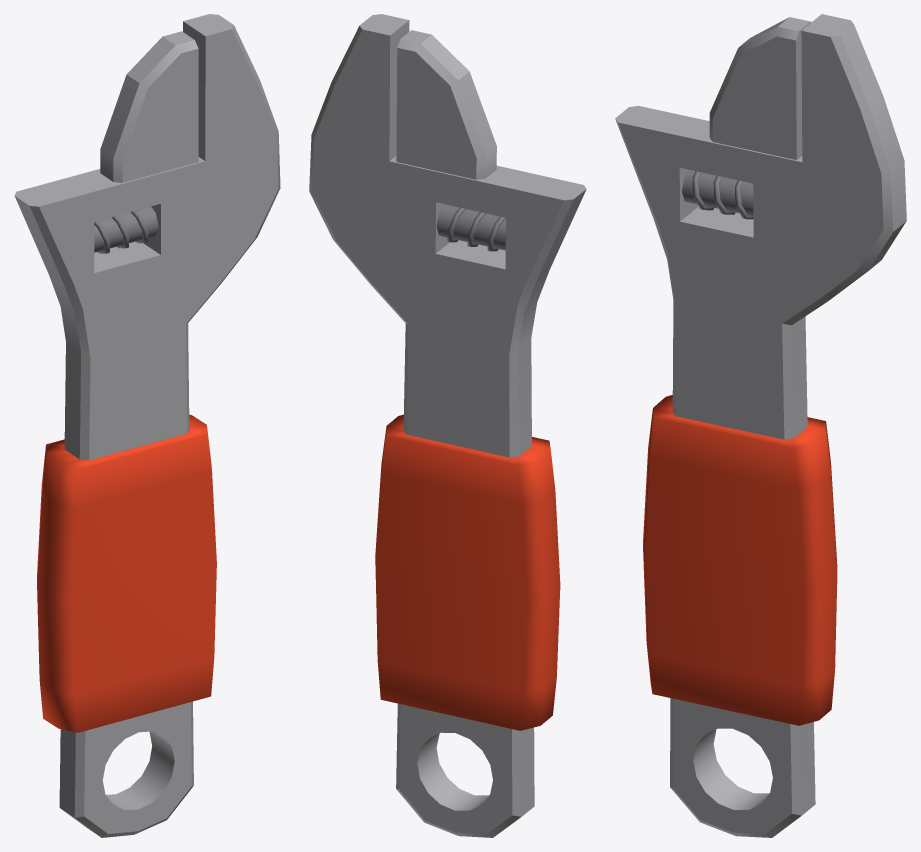
File: Wrench_02.fbx
The picture shows the model from 3 angles, left to right: view 1: azimuth 30°, elevation 25°; view 2: azimuth 150°, elevation 25°; view 3: azimuth 330°, elevation 25°; orthographic projection. The views are drawn at different scales.
Visible parts, largest first — view 1: Wrench_02; view 2: Wrench_02; view 3: Wrench_02.
Part boxes in pixels (left/top/right/bottom): Wrench_02: left=14, top=14, right=280, bottom=837; Wrench_02: left=309, top=14, right=586, bottom=837; Wrench_02: left=615, top=14, right=906, bottom=837.
Size of the model in its own units: 16.86 by 4.27 by 48.92.
